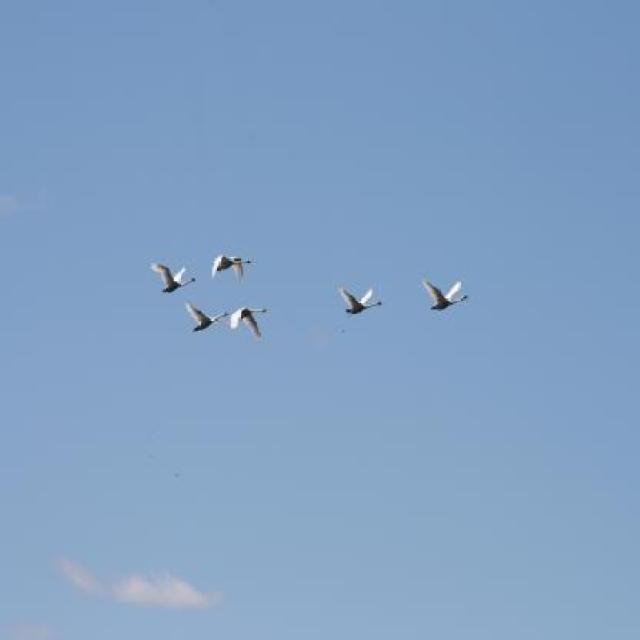bird: (422, 278, 469, 310), (186, 299, 229, 333), (151, 263, 197, 294), (339, 284, 383, 314), (230, 307, 268, 341), (212, 255, 252, 283)
